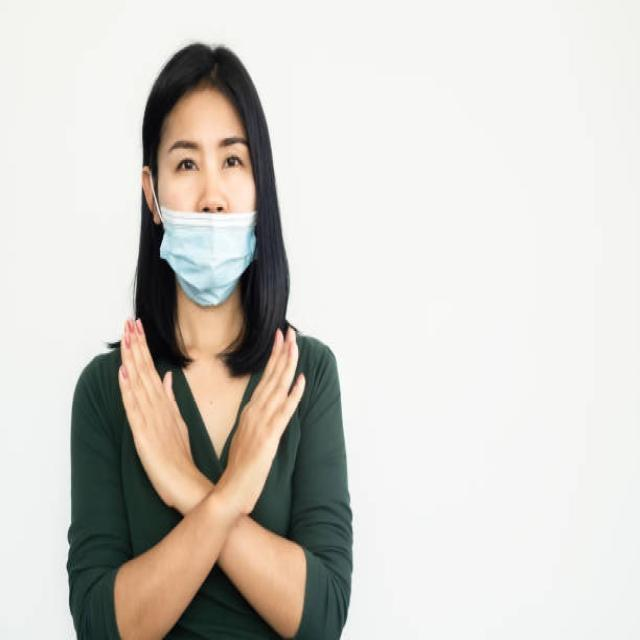hairnet: (149, 172, 261, 302)
